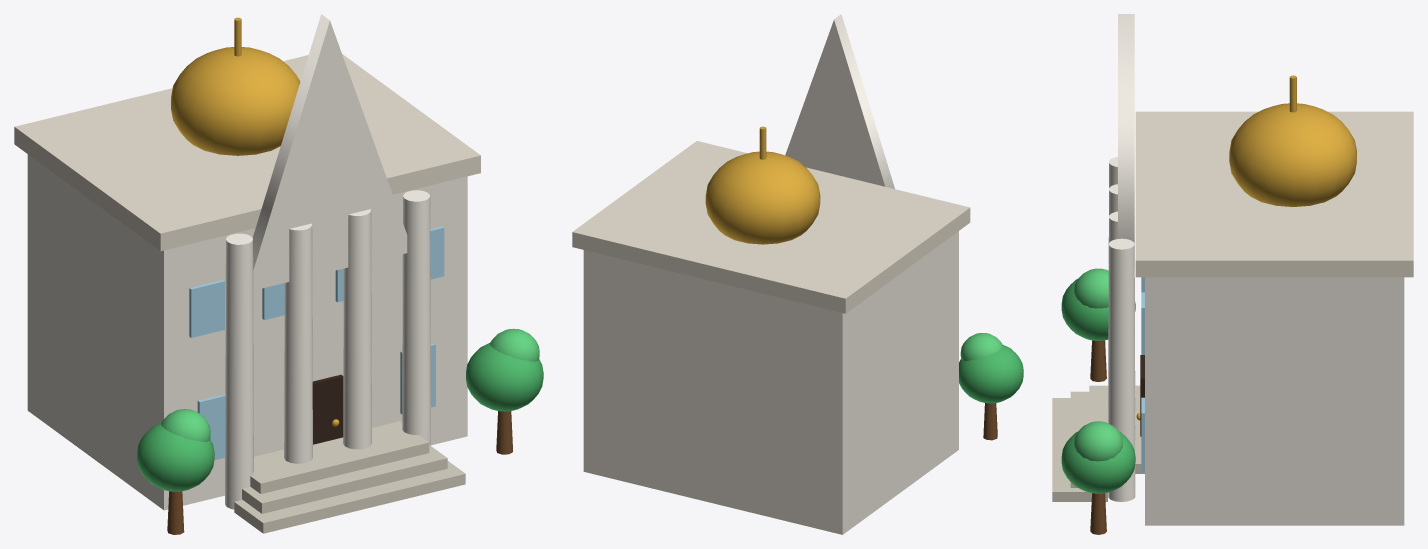
Rendered from res_mansion.glb.
3 renders of one model, left to right at view 1: azimuth 30°, elevation 25°; view 2: azimuth 150°, elevation 25°; view 3: azimuth 270°, elevation 25°, orthographic. The views are drawn at different scales.
Bounding box in the file's own units: 4.71 × 5.25 × 3.9.
